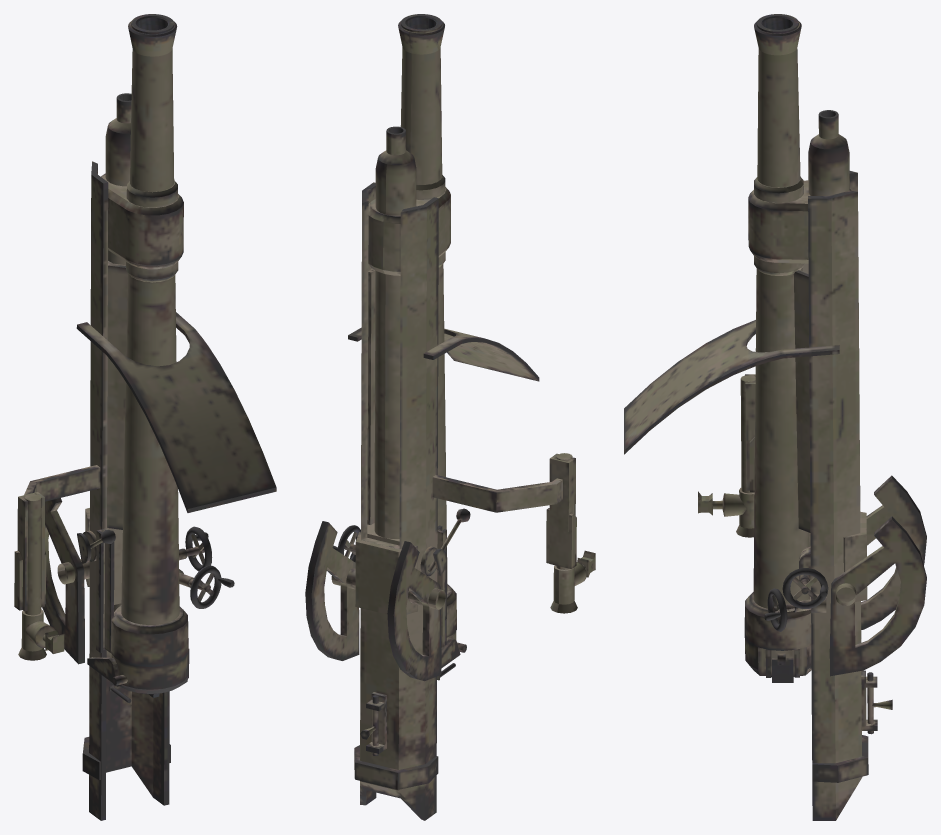
File: Gun_01.glb
The picture shows the model from 3 angles, left to right: view 1: azimuth 30°, elevation 25°; view 2: azimuth 150°, elevation 25°; view 3: azimuth 270°, elevation 25°; orthographic projection. The views are drawn at different scales.
Parts seen in each view (by area): view 1: set_0_group_0; view 2: set_0_group_0; view 3: set_0_group_0.
Part boxes in pixels (x1,y1,x2,y2): set_0_group_0: (14, 14, 276, 820); set_0_group_0: (305, 14, 595, 820); set_0_group_0: (624, 14, 926, 820).
Bounding box in the file's own units: 0.8425 × 2.86 × 1.
1 material, 1 textured.
